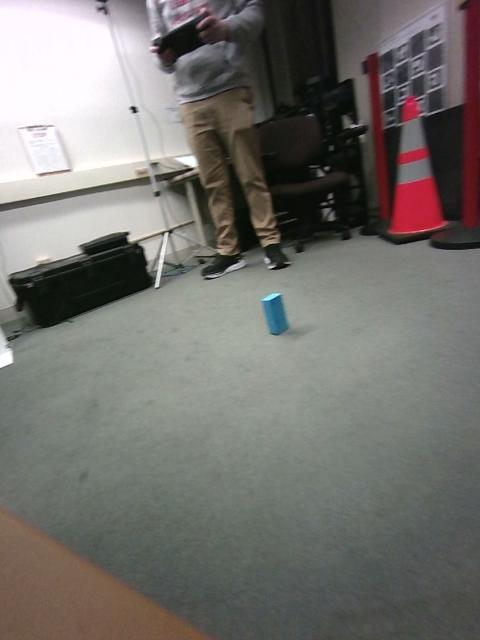block: (386, 262, 419, 326)
